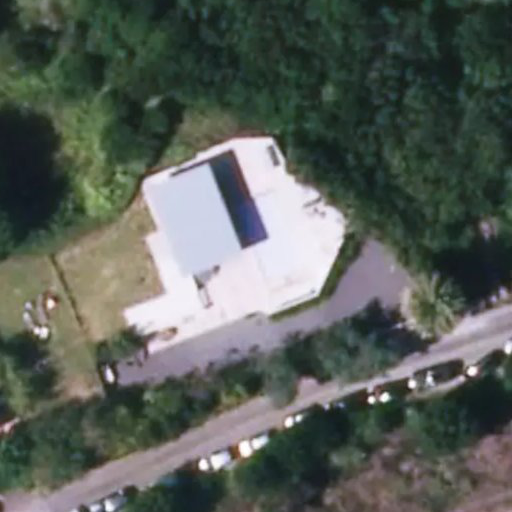pool: (218, 212, 292, 271)
